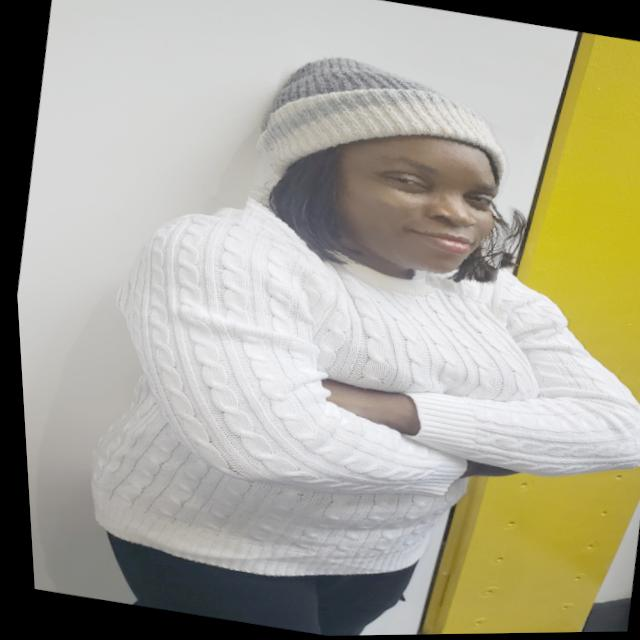happy: (229, 43, 544, 303)
